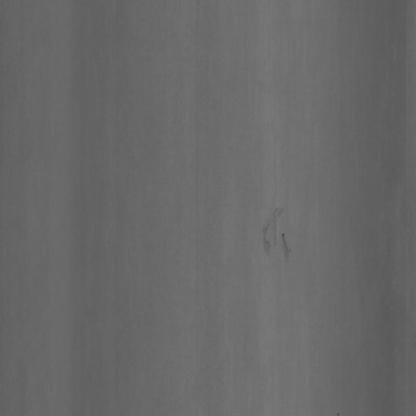water_spot: (259, 198, 295, 278)
